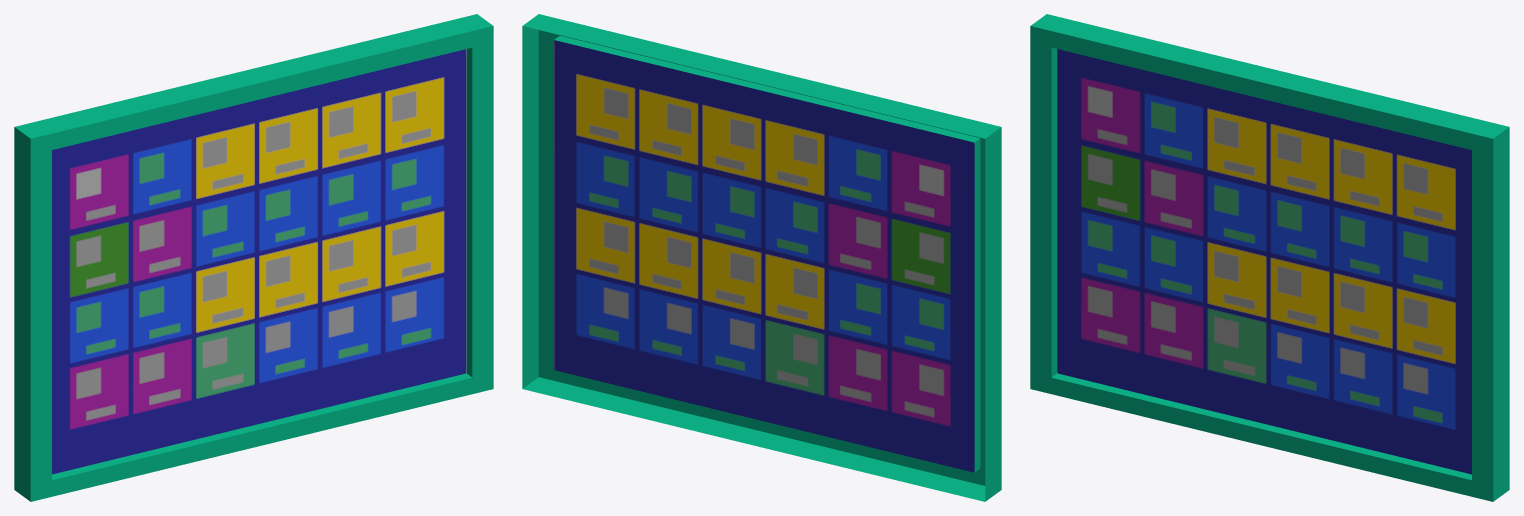
File: Periodic Table.fbx
3 renders of one model, left to right at view 1: azimuth 30°, elevation 25°; view 2: azimuth 150°, elevation 25°; view 3: azimuth 330°, elevation 25°, orthographic.
Parts seen in each view (by area): view 1: Periodic Table; view 2: Periodic Table; view 3: Periodic Table.
Part boxes in pixels (x1,y1,x2,y2): Periodic Table: (14, 14, 493, 501); Periodic Table: (522, 14, 1001, 501); Periodic Table: (1030, 14, 1509, 501).
Size of the model in its own units: 220 by 165 by 13.45.
